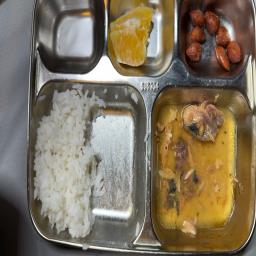25_fish: (157, 92, 243, 234)
50_nuts: (186, 0, 244, 77)
50_orange: (105, 5, 169, 67)
50_rice: (30, 83, 139, 237)
empty: (49, 3, 100, 69)
